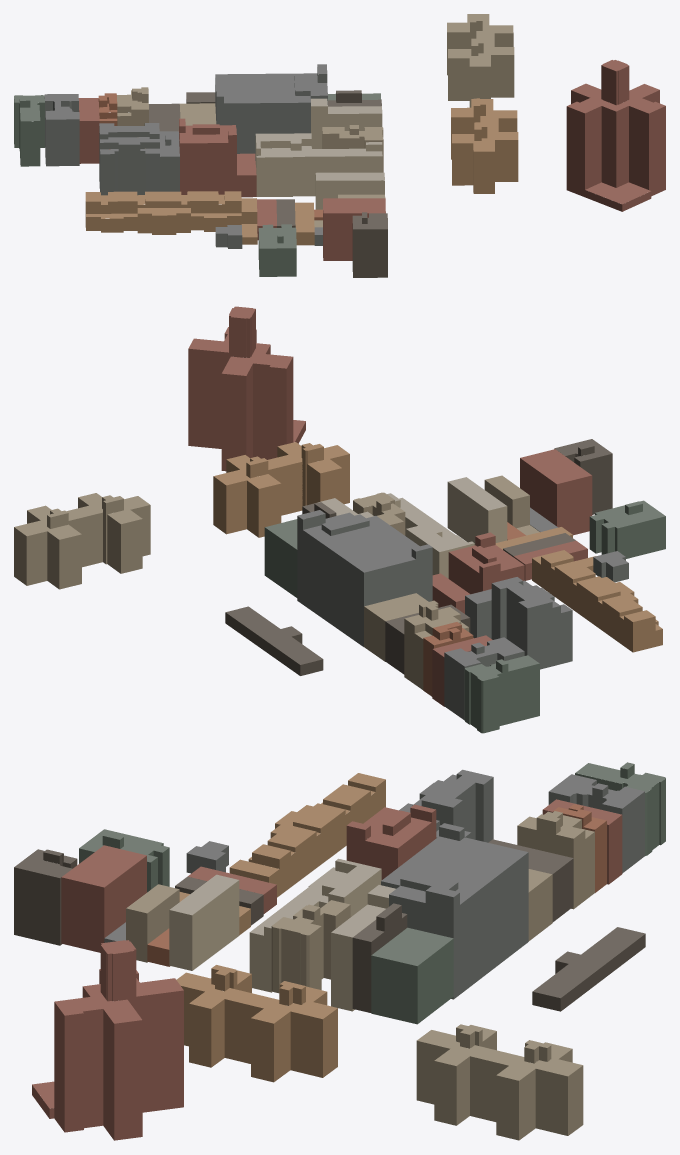
File: tile-9_3.glb
3 views of the same model, one above another, from view 1: azimuth 30°, elevation 25°; view 2: azimuth 150°, elevation 25°; view 3: azimuth 270°, elevation 25° (orthographic). The views are drawn at different scales.
Visible parts, largest first — view 1: wall, roof; view 2: wall, roof; view 3: wall, roof.
Part boxes in pixels (left/top/right/bottom): wall: left=14, top=21, right=665, bottom=277; roof: left=14, top=14, right=665, bottom=248; wall: left=14, top=309, right=665, bottom=733; roof: left=14, top=306, right=665, bottom=680; wall: left=14, top=764, right=665, bottom=1140; roof: left=14, top=762, right=665, bottom=1108.
Size of the model in its own units: 227 by 53.71 by 188.
